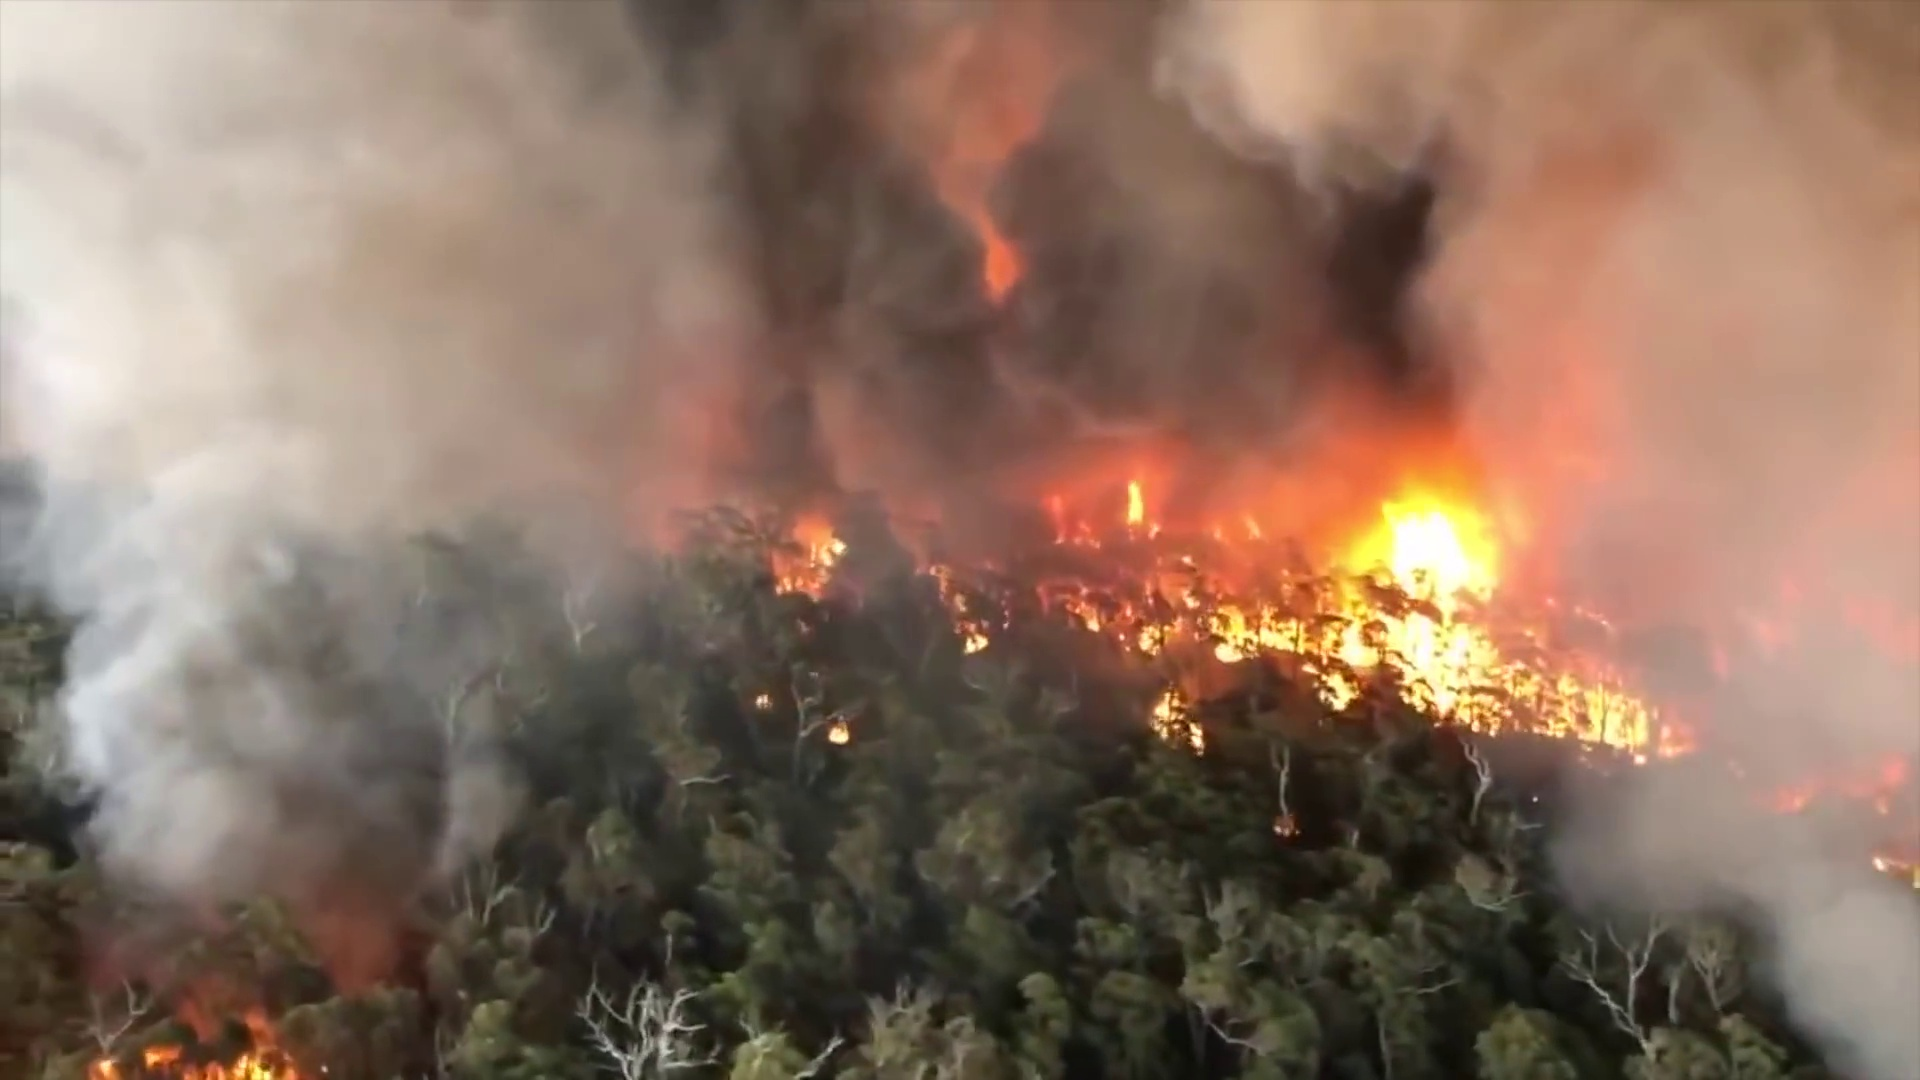fire: (1323, 603, 1633, 737), (1356, 492, 1503, 597), (1207, 608, 1312, 651), (1122, 488, 1142, 527)
